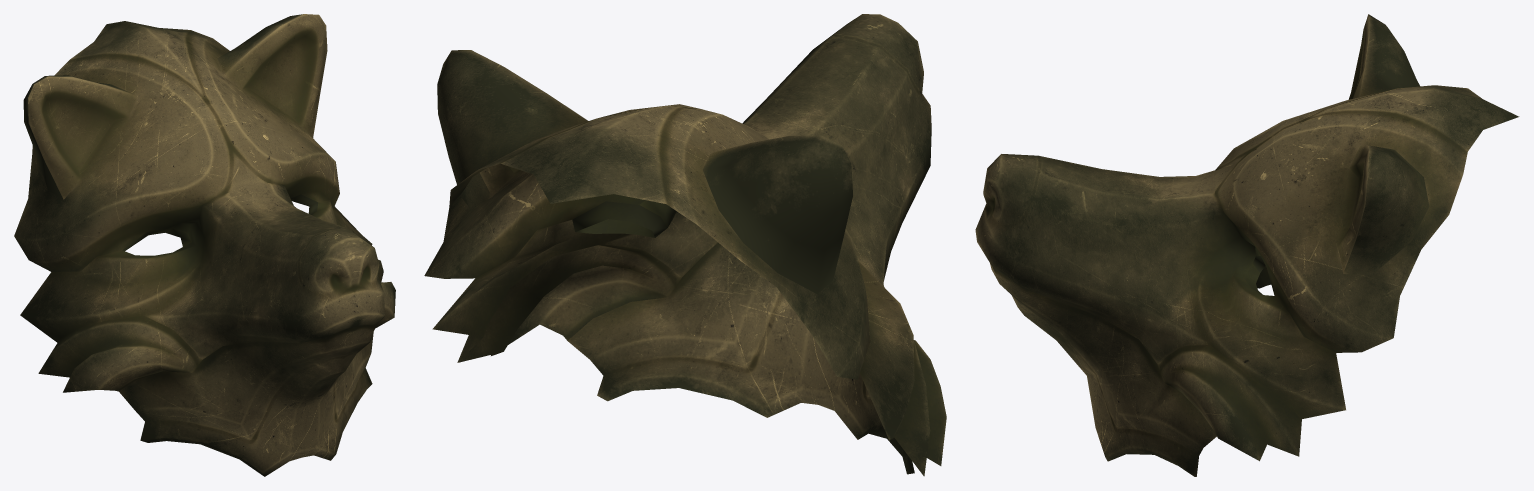
File: kitune_musk.fbx
The picture shows the model from 3 angles, left to right: view 1: azimuth 30°, elevation 25°; view 2: azimuth 150°, elevation 25°; view 3: azimuth 270°, elevation 25°; orthographic projection. The views are drawn at different scales.
Parts seen in each view (by area): view 1: Kitsune; view 2: Kitsune; view 3: Kitsune.
Part boxes in pixels (bbox=[...]): Kitsune: bbox=[14, 14, 395, 476]; Kitsune: bbox=[424, 14, 946, 476]; Kitsune: bbox=[975, 14, 1519, 476].
Bounding box in the file's own units: 41.86 × 39.24 × 53.74.
Materials: 1 (1 with a texture image).
